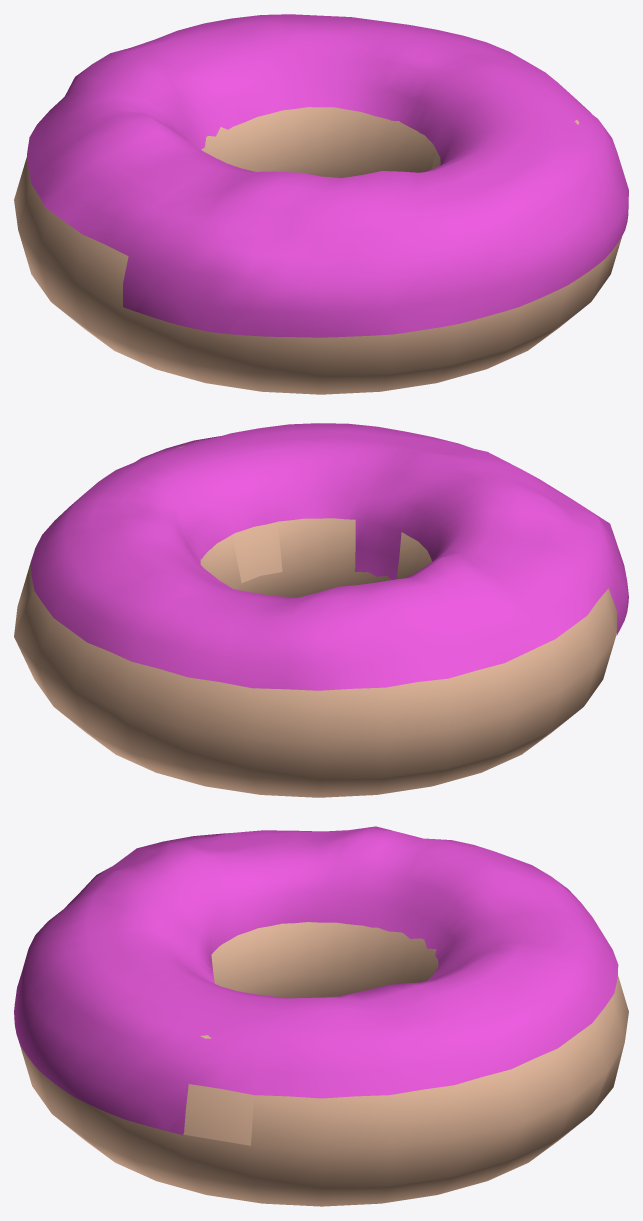
The model's file is donut.glb.
3 views of the same model, one above another, from view 1: azimuth 30°, elevation 25°; view 2: azimuth 150°, elevation 25°; view 3: azimuth 270°, elevation 25° (orthographic).
Parts seen in each view (by area): view 1: Icing, Donut; view 2: Icing, Donut; view 3: Icing, Donut.
Boxes of the visible parts, left/top/right/bottom form: Icing: left=27, top=14, right=628, bottom=337; Donut: left=14, top=107, right=622, bottom=394; Icing: left=30, top=423, right=628, bottom=690; Donut: left=14, top=446, right=617, bottom=797; Icing: left=14, top=826, right=618, bottom=1135; Donut: left=19, top=922, right=628, bottom=1206.
Size of what is drawn, in the model's own units: 0.1603 by 0.0575 by 0.1608.
